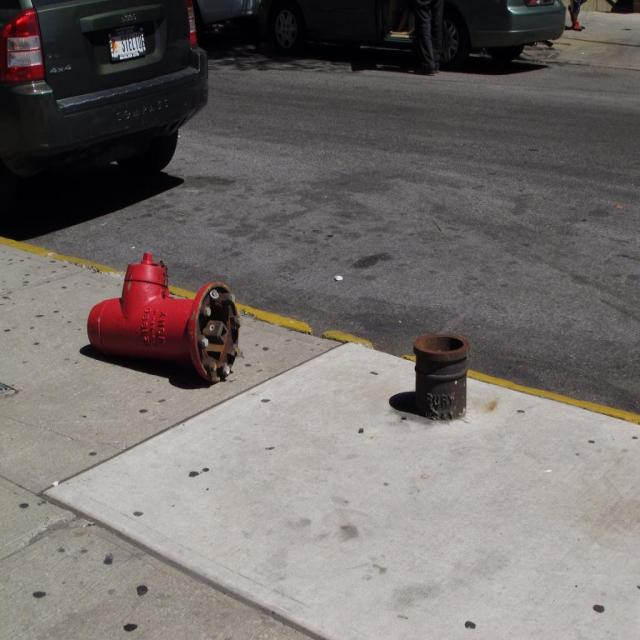fire_hydrant: (88, 254, 244, 379)
